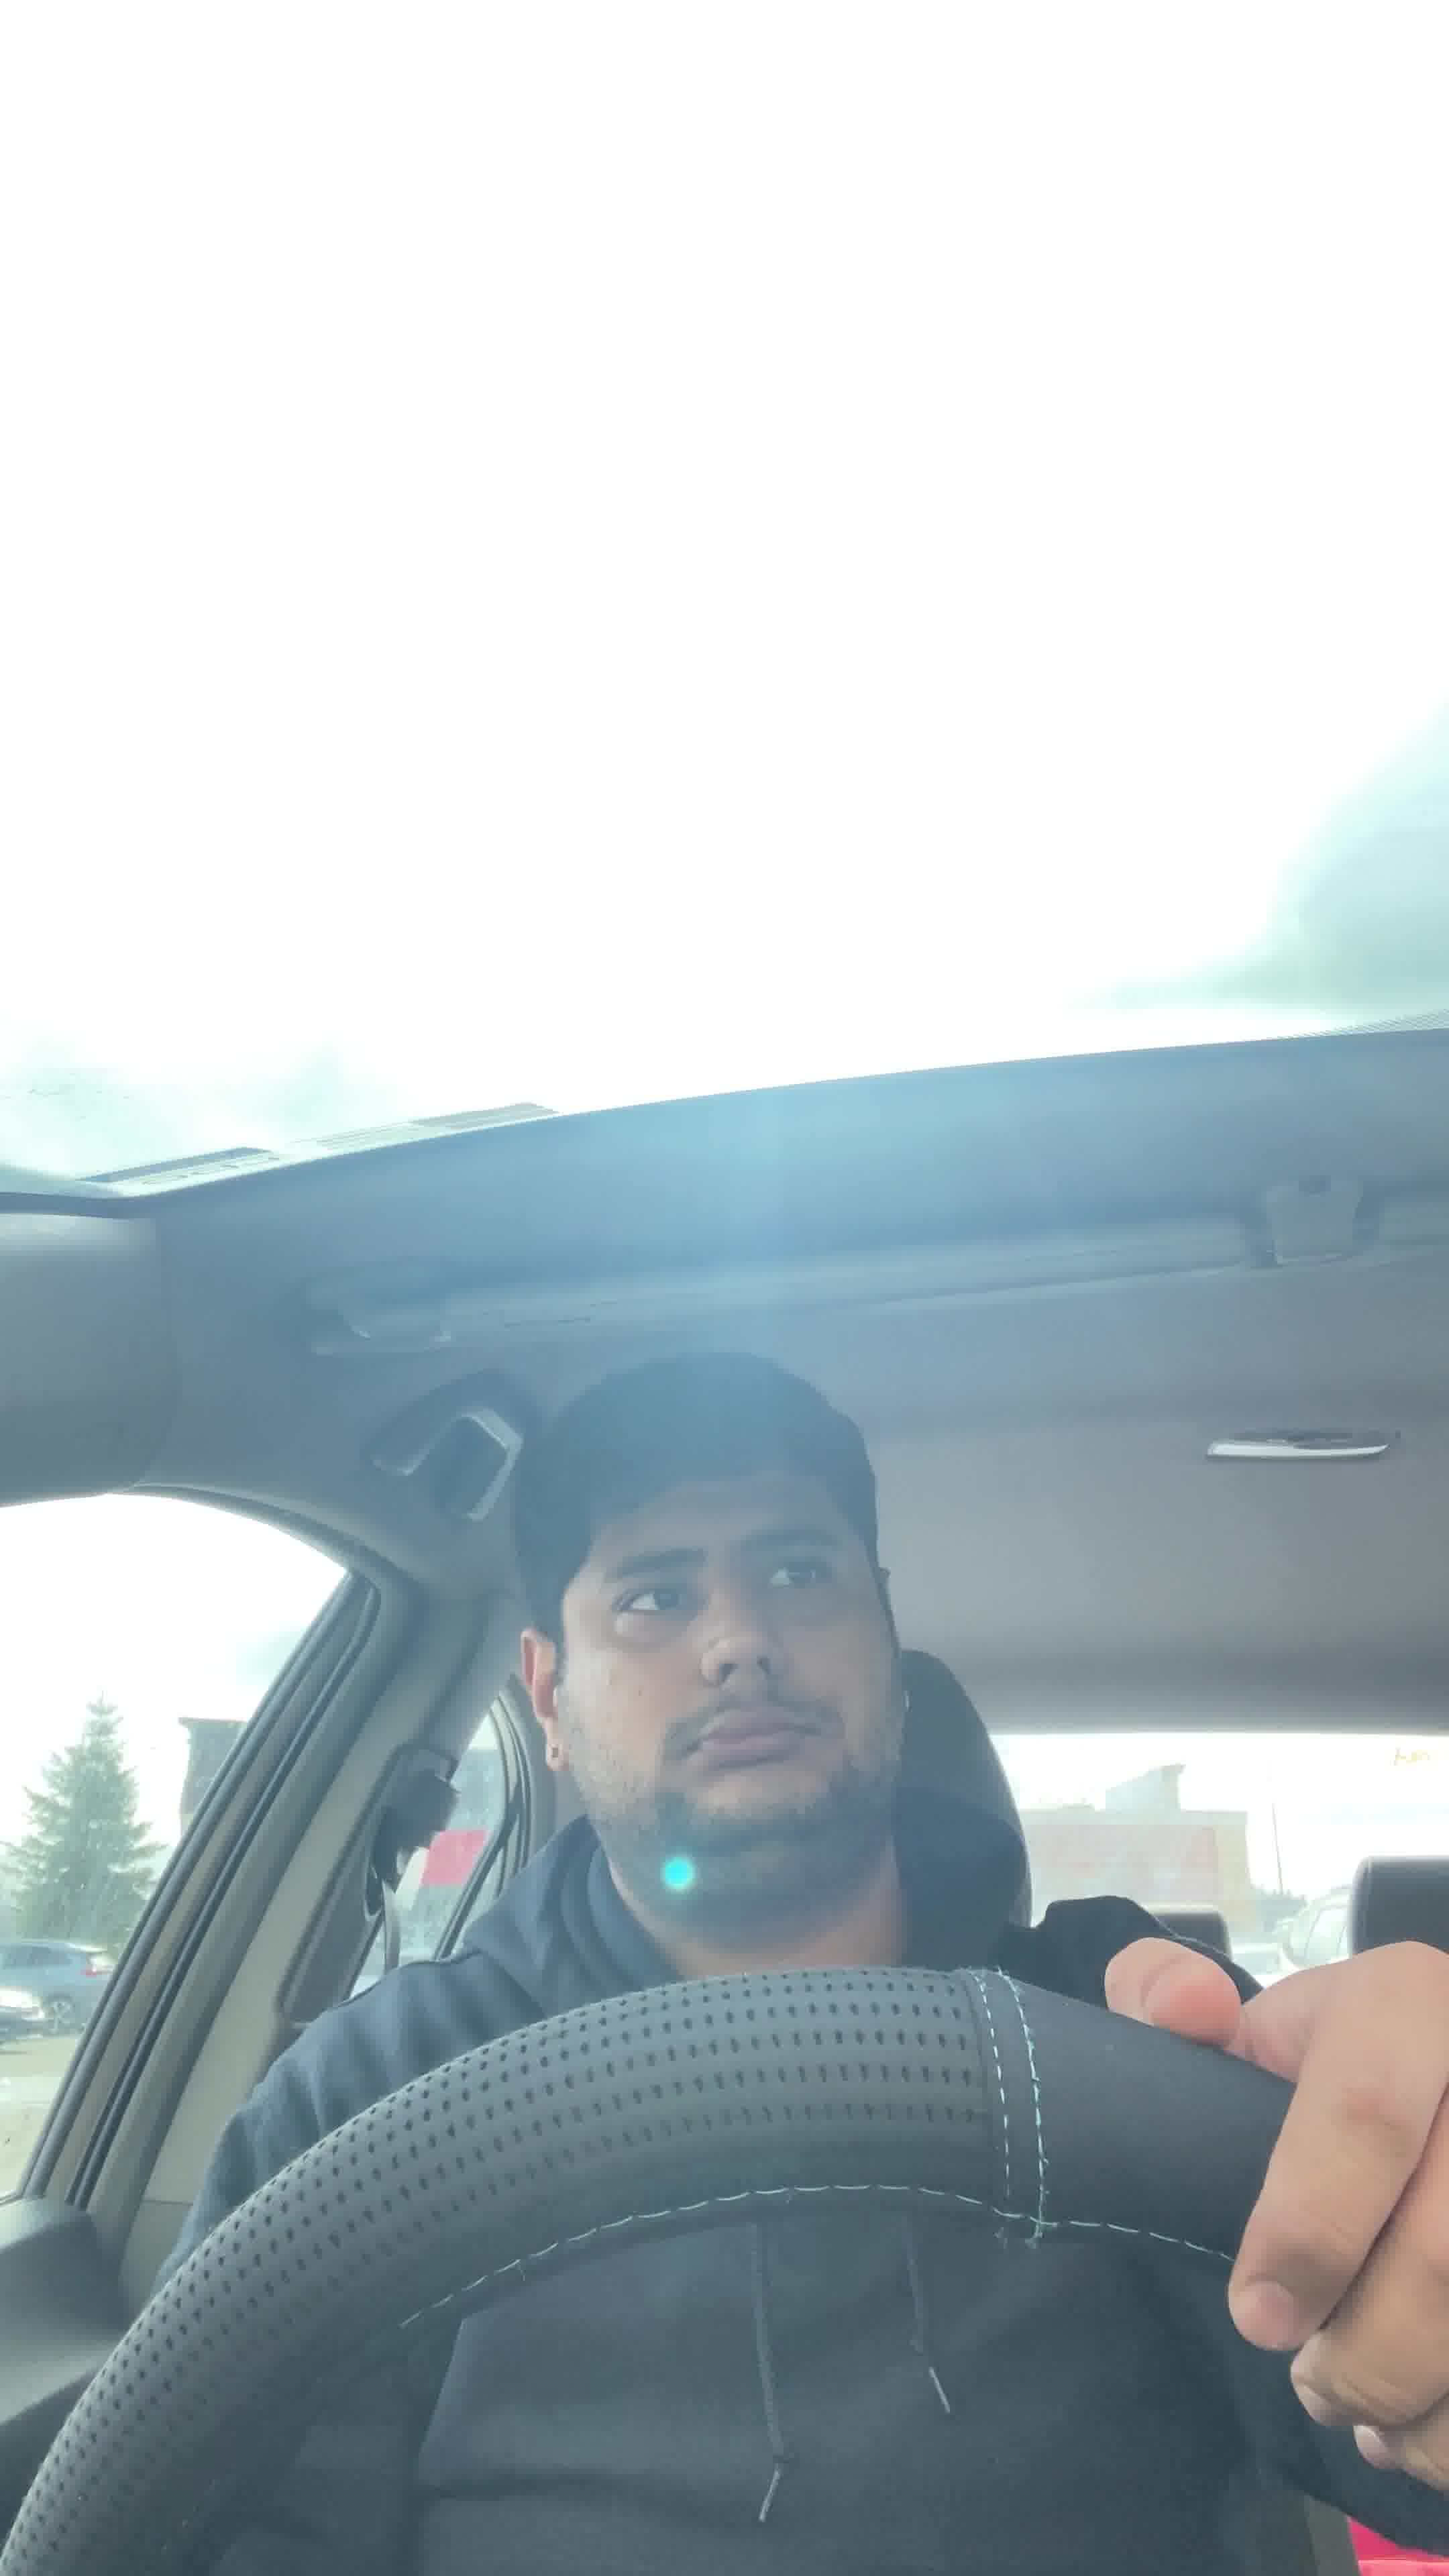no_seatbelt: (345, 1719, 873, 2537)
